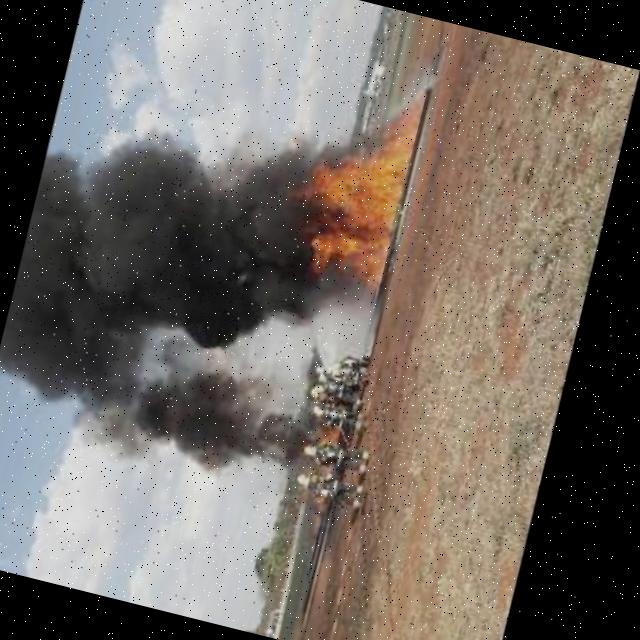fire: (275, 74, 423, 287), (301, 495, 325, 533)
